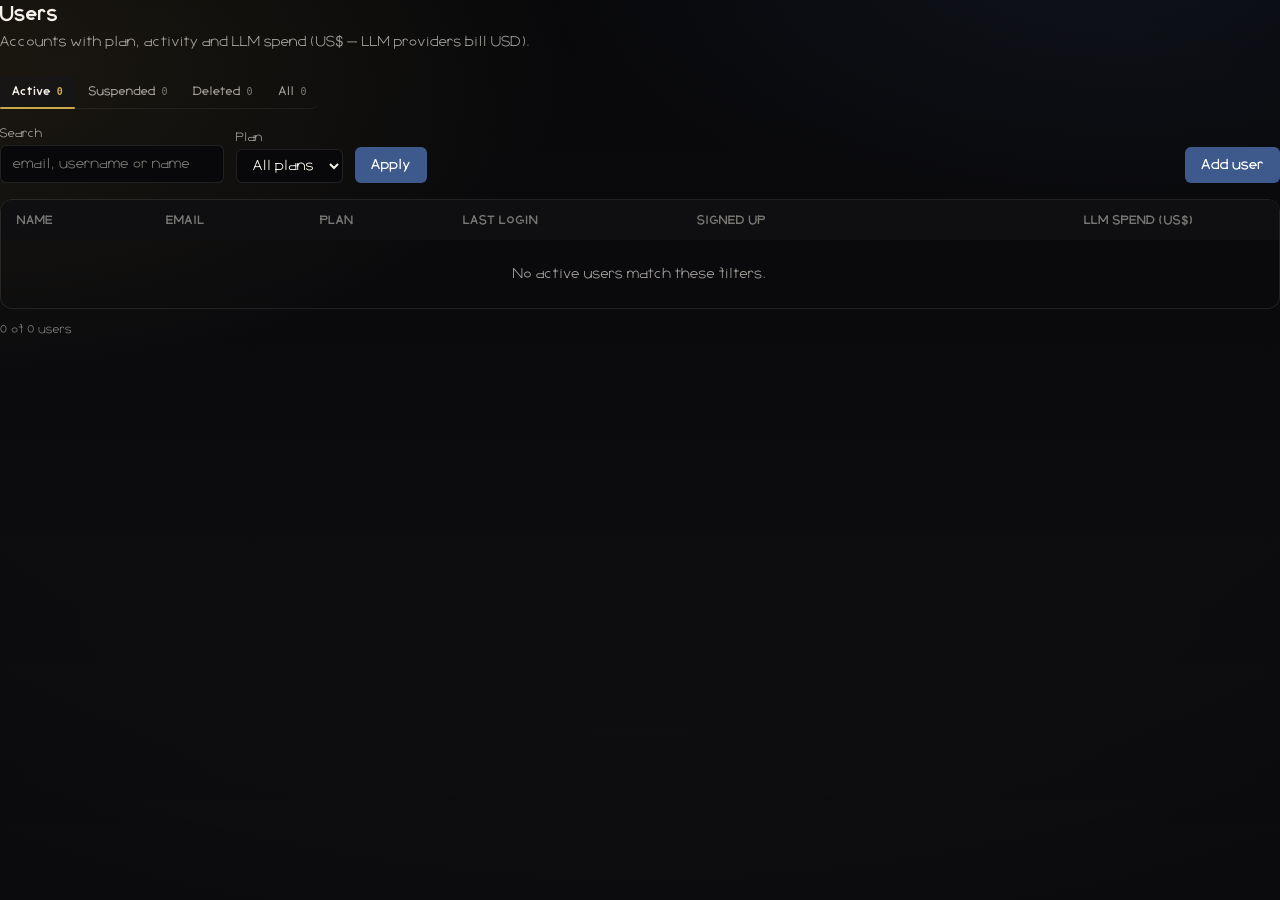
Test: add-user modal › omits an empty name rather than sending a blank one
Click the button with test id "admin-add-user" at (1233, 165), box [1185,147,1279,183]
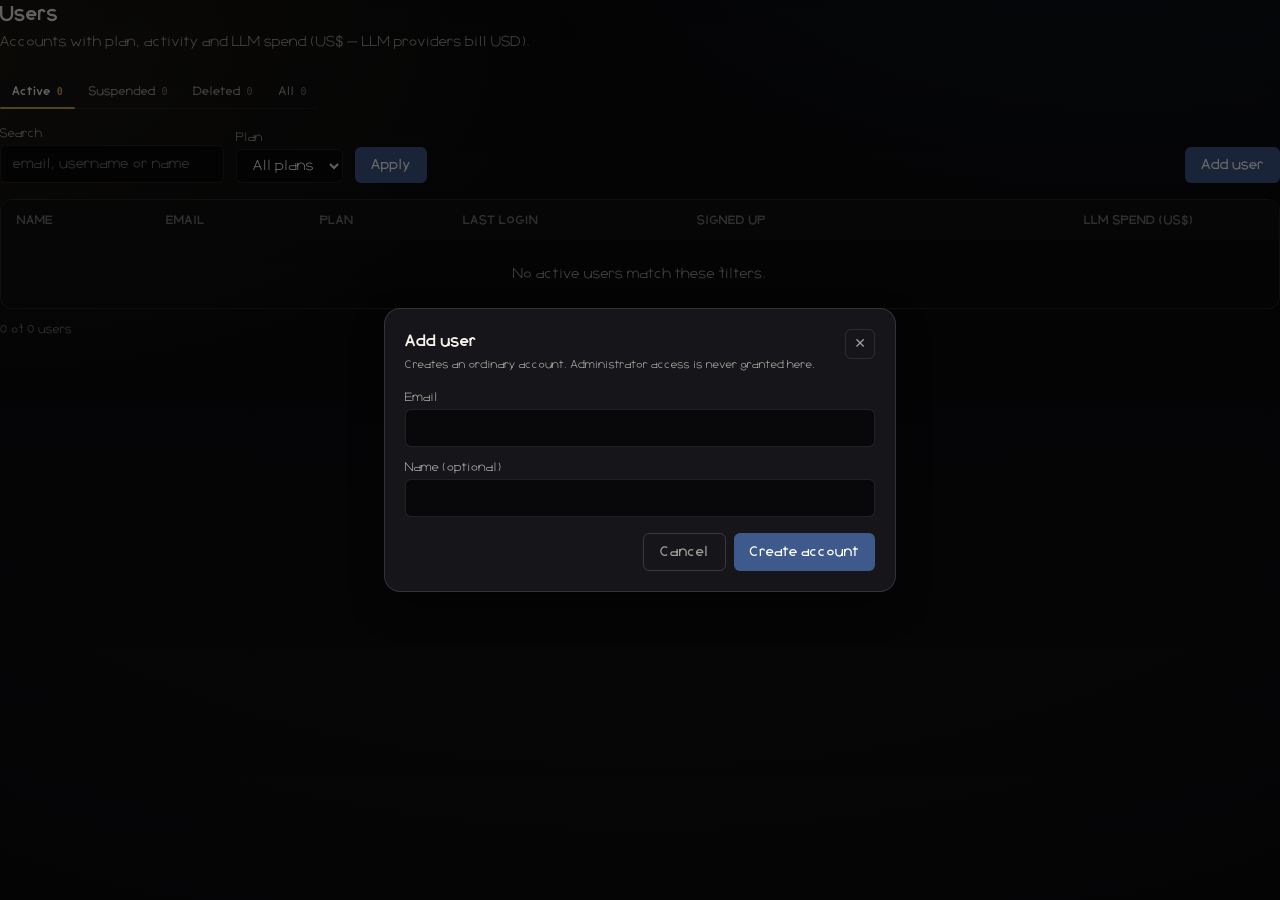
expect the dialog with test id "admin-add-user-dialog" is shown: met, box [384,308,896,592]
Type "solo@example.com" into the field named "New user email" at (640, 428), box [405,409,875,447]
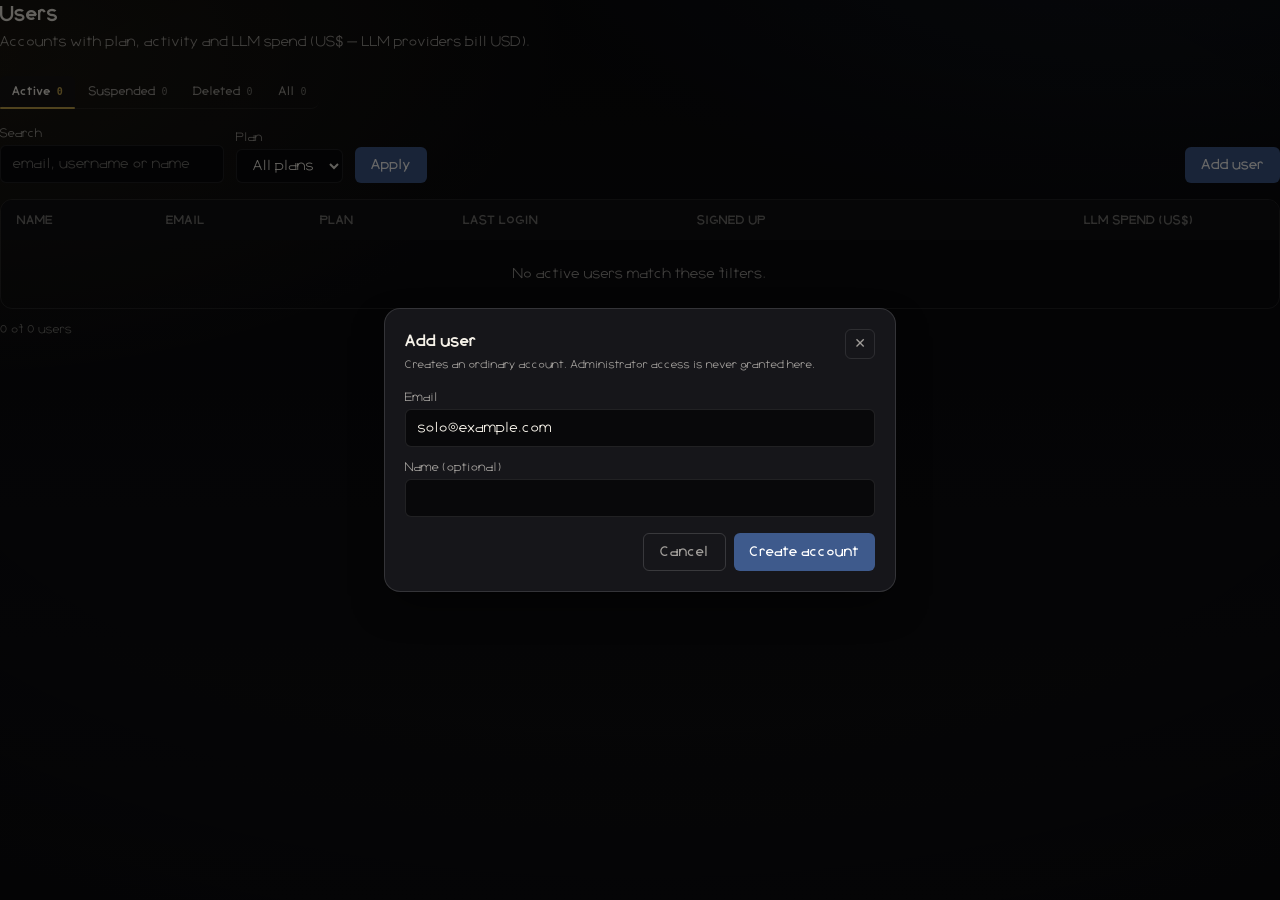
Click the button with test id "admin-add-user-submit" at (804, 552), box [734,533,875,571]
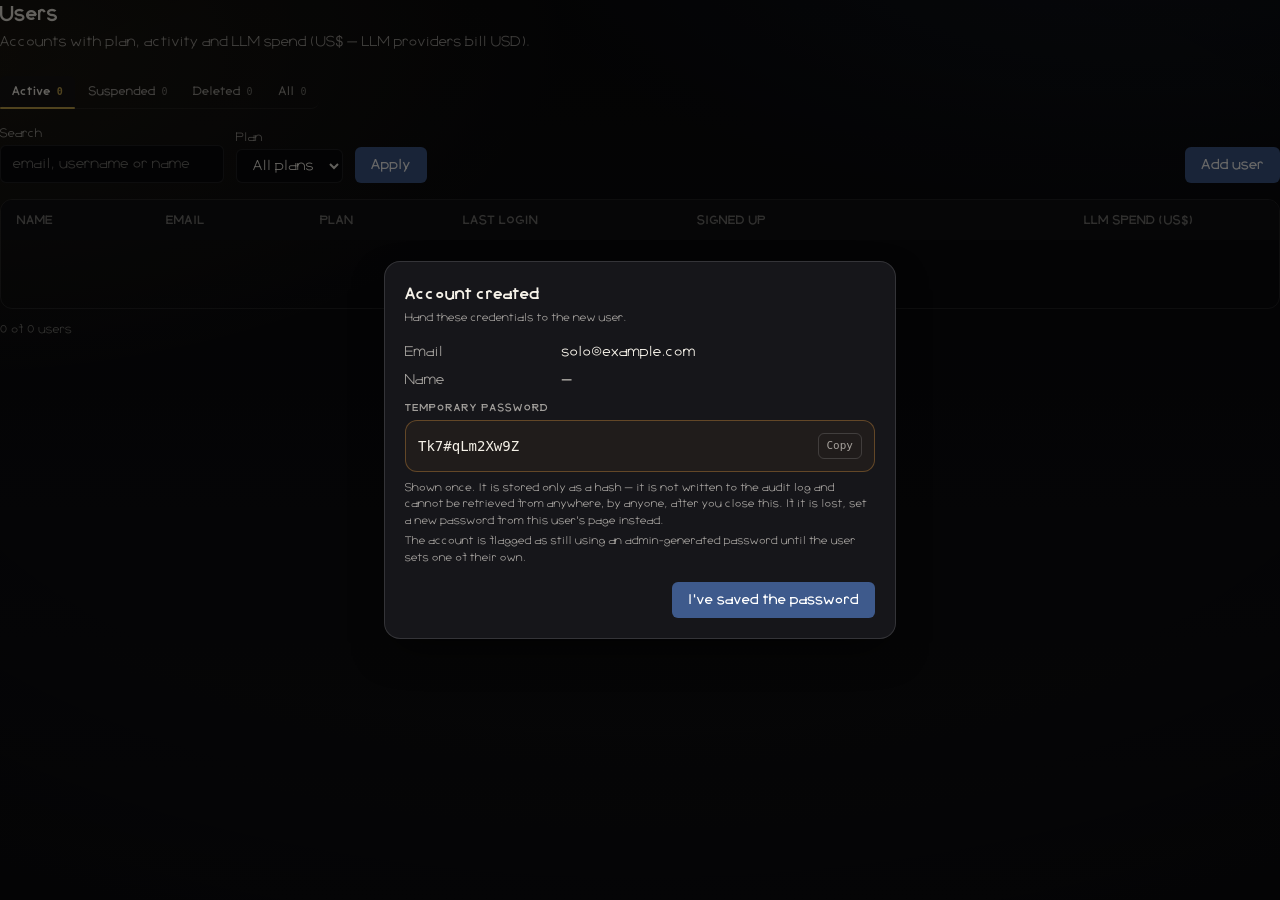
expect the text "Tk7#qLm2Xw9Z" is shown: met, box [418,438,519,454]
